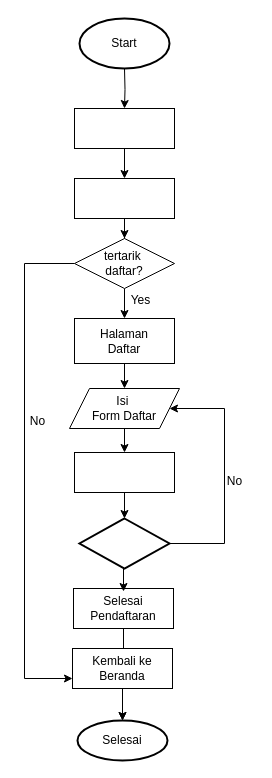
Image size: 272x778. Some labels were removed from this diagram. The box of each missing label's shape, as (x1, y1, x2, y2) in pixels:
Beranda: (74, 108, 174, 148)
Daftar Berhasil?: (78, 517, 170, 569)
Melihat seluruh informasi profile: (74, 178, 174, 218)
Pembayaran: (74, 452, 174, 492)
